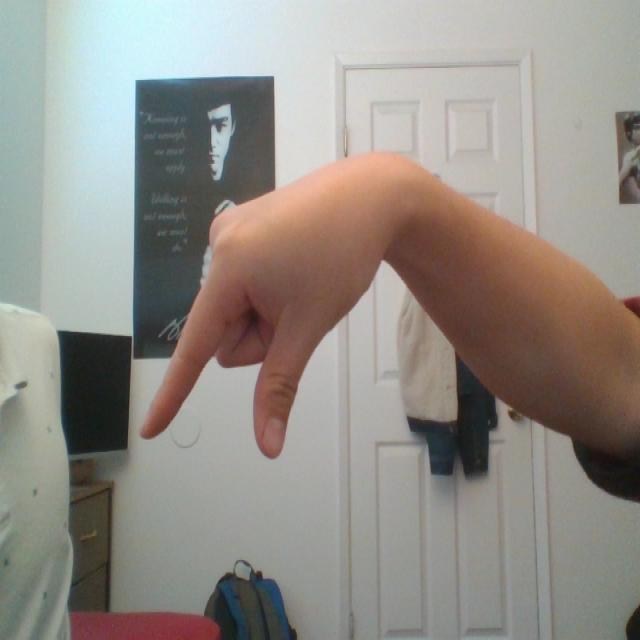Q: (133, 116, 450, 476)
